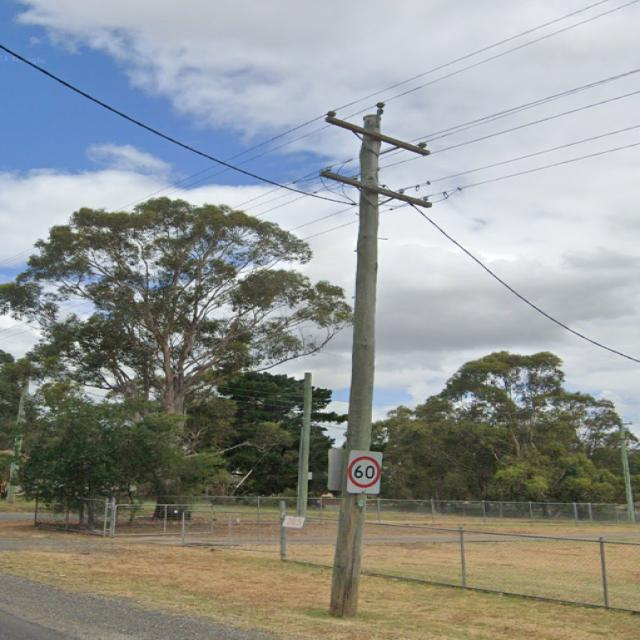HV-transmission: (322, 104, 432, 154)
crossarm: (317, 168, 428, 206), (323, 115, 427, 154)
timber-pole: (324, 114, 380, 615), (299, 371, 308, 521)
